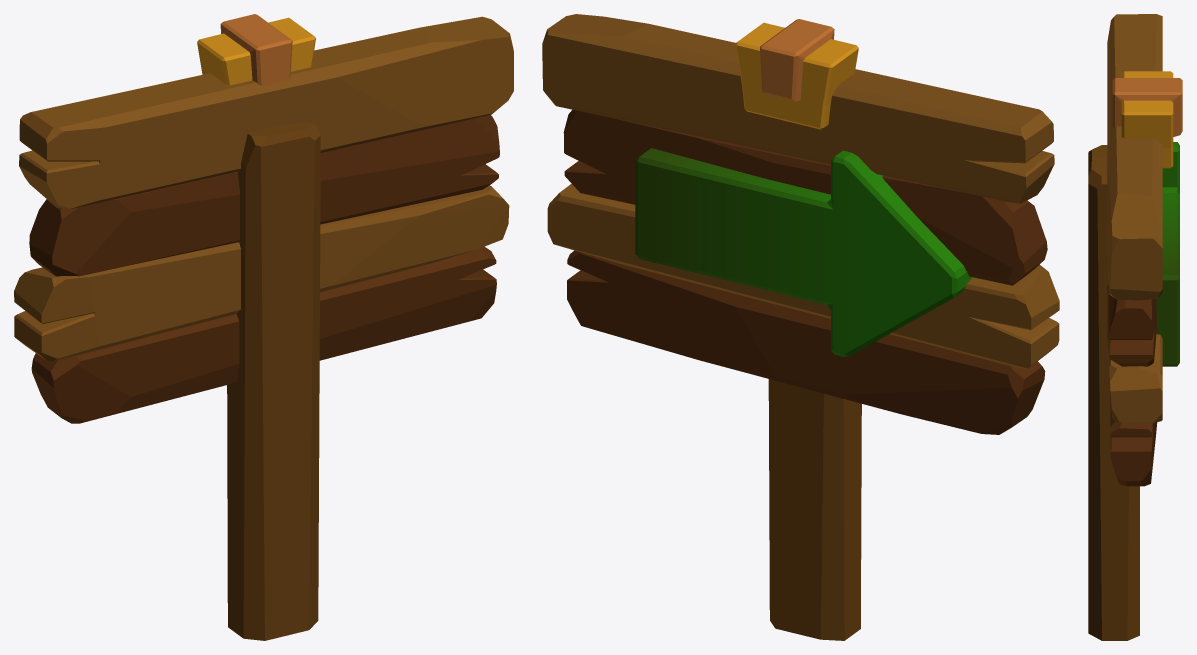
The model's file is SignPost02.fbx.
The picture shows the model from 3 angles, left to right: view 1: azimuth 30°, elevation 25°; view 2: azimuth 150°, elevation 25°; view 3: azimuth 270°, elevation 25°; orthographic projection. The views are drawn at different scales.
Parts seen in each view (by area): view 1: LOD0; view 2: LOD0; view 3: LOD0.
Boxes of the visible parts, x1,y1,x2,y2 form: LOD0: (14, 14, 513, 640); LOD0: (542, 14, 1059, 640); LOD0: (1088, 14, 1182, 640).
Size of what is drawn, in the model's own units: 149 by 27.69 by 175.
